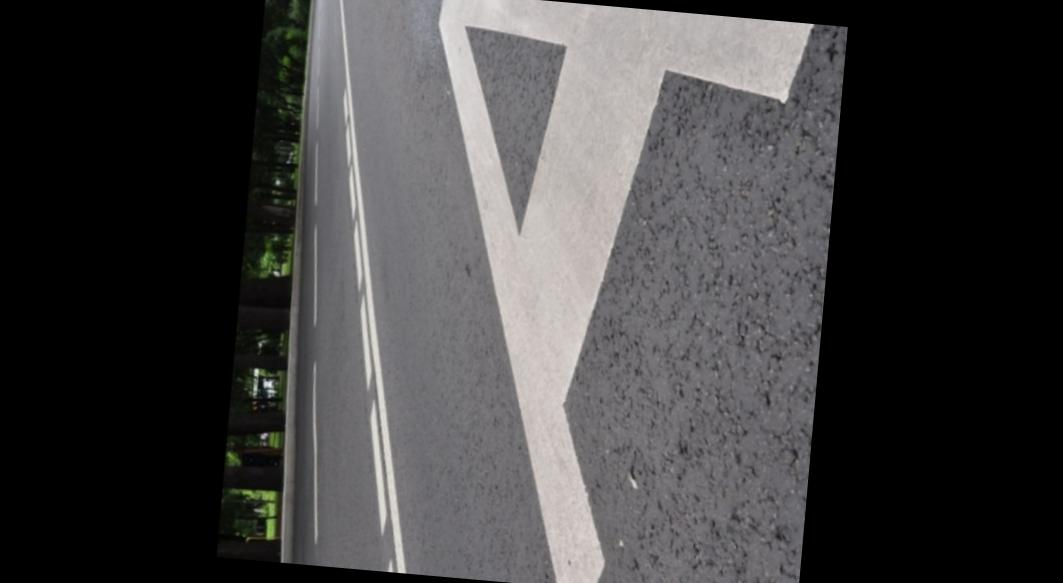bus_line: (343, 0, 842, 583)
